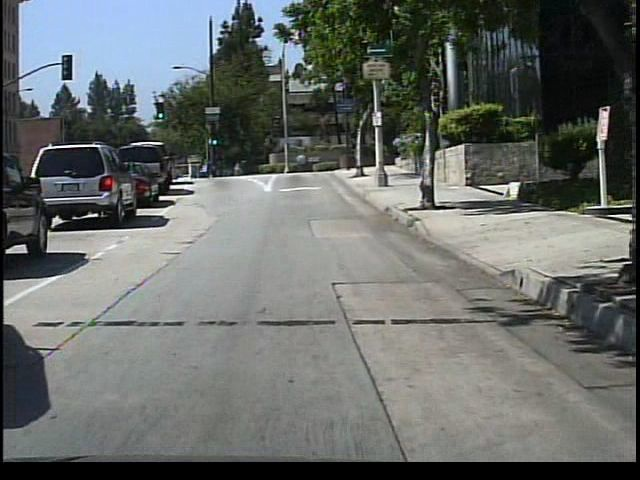person: (202, 154, 216, 178)
